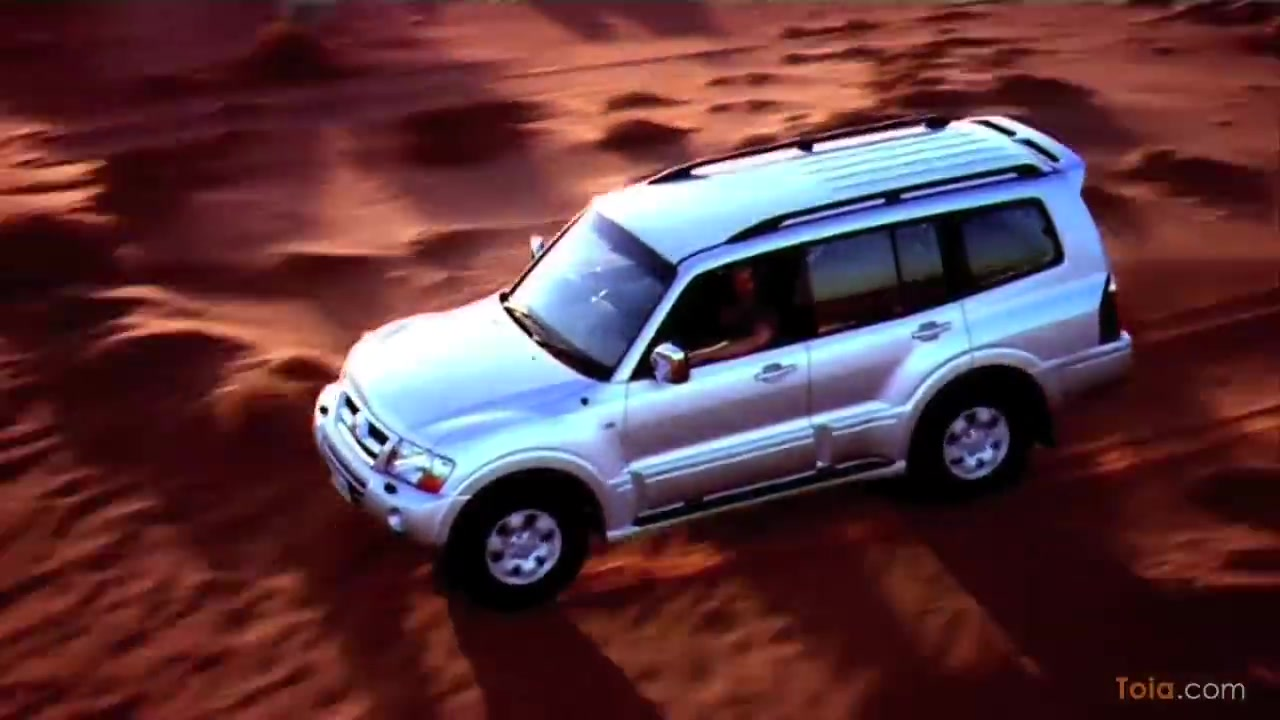car: (308, 102, 1138, 604)
